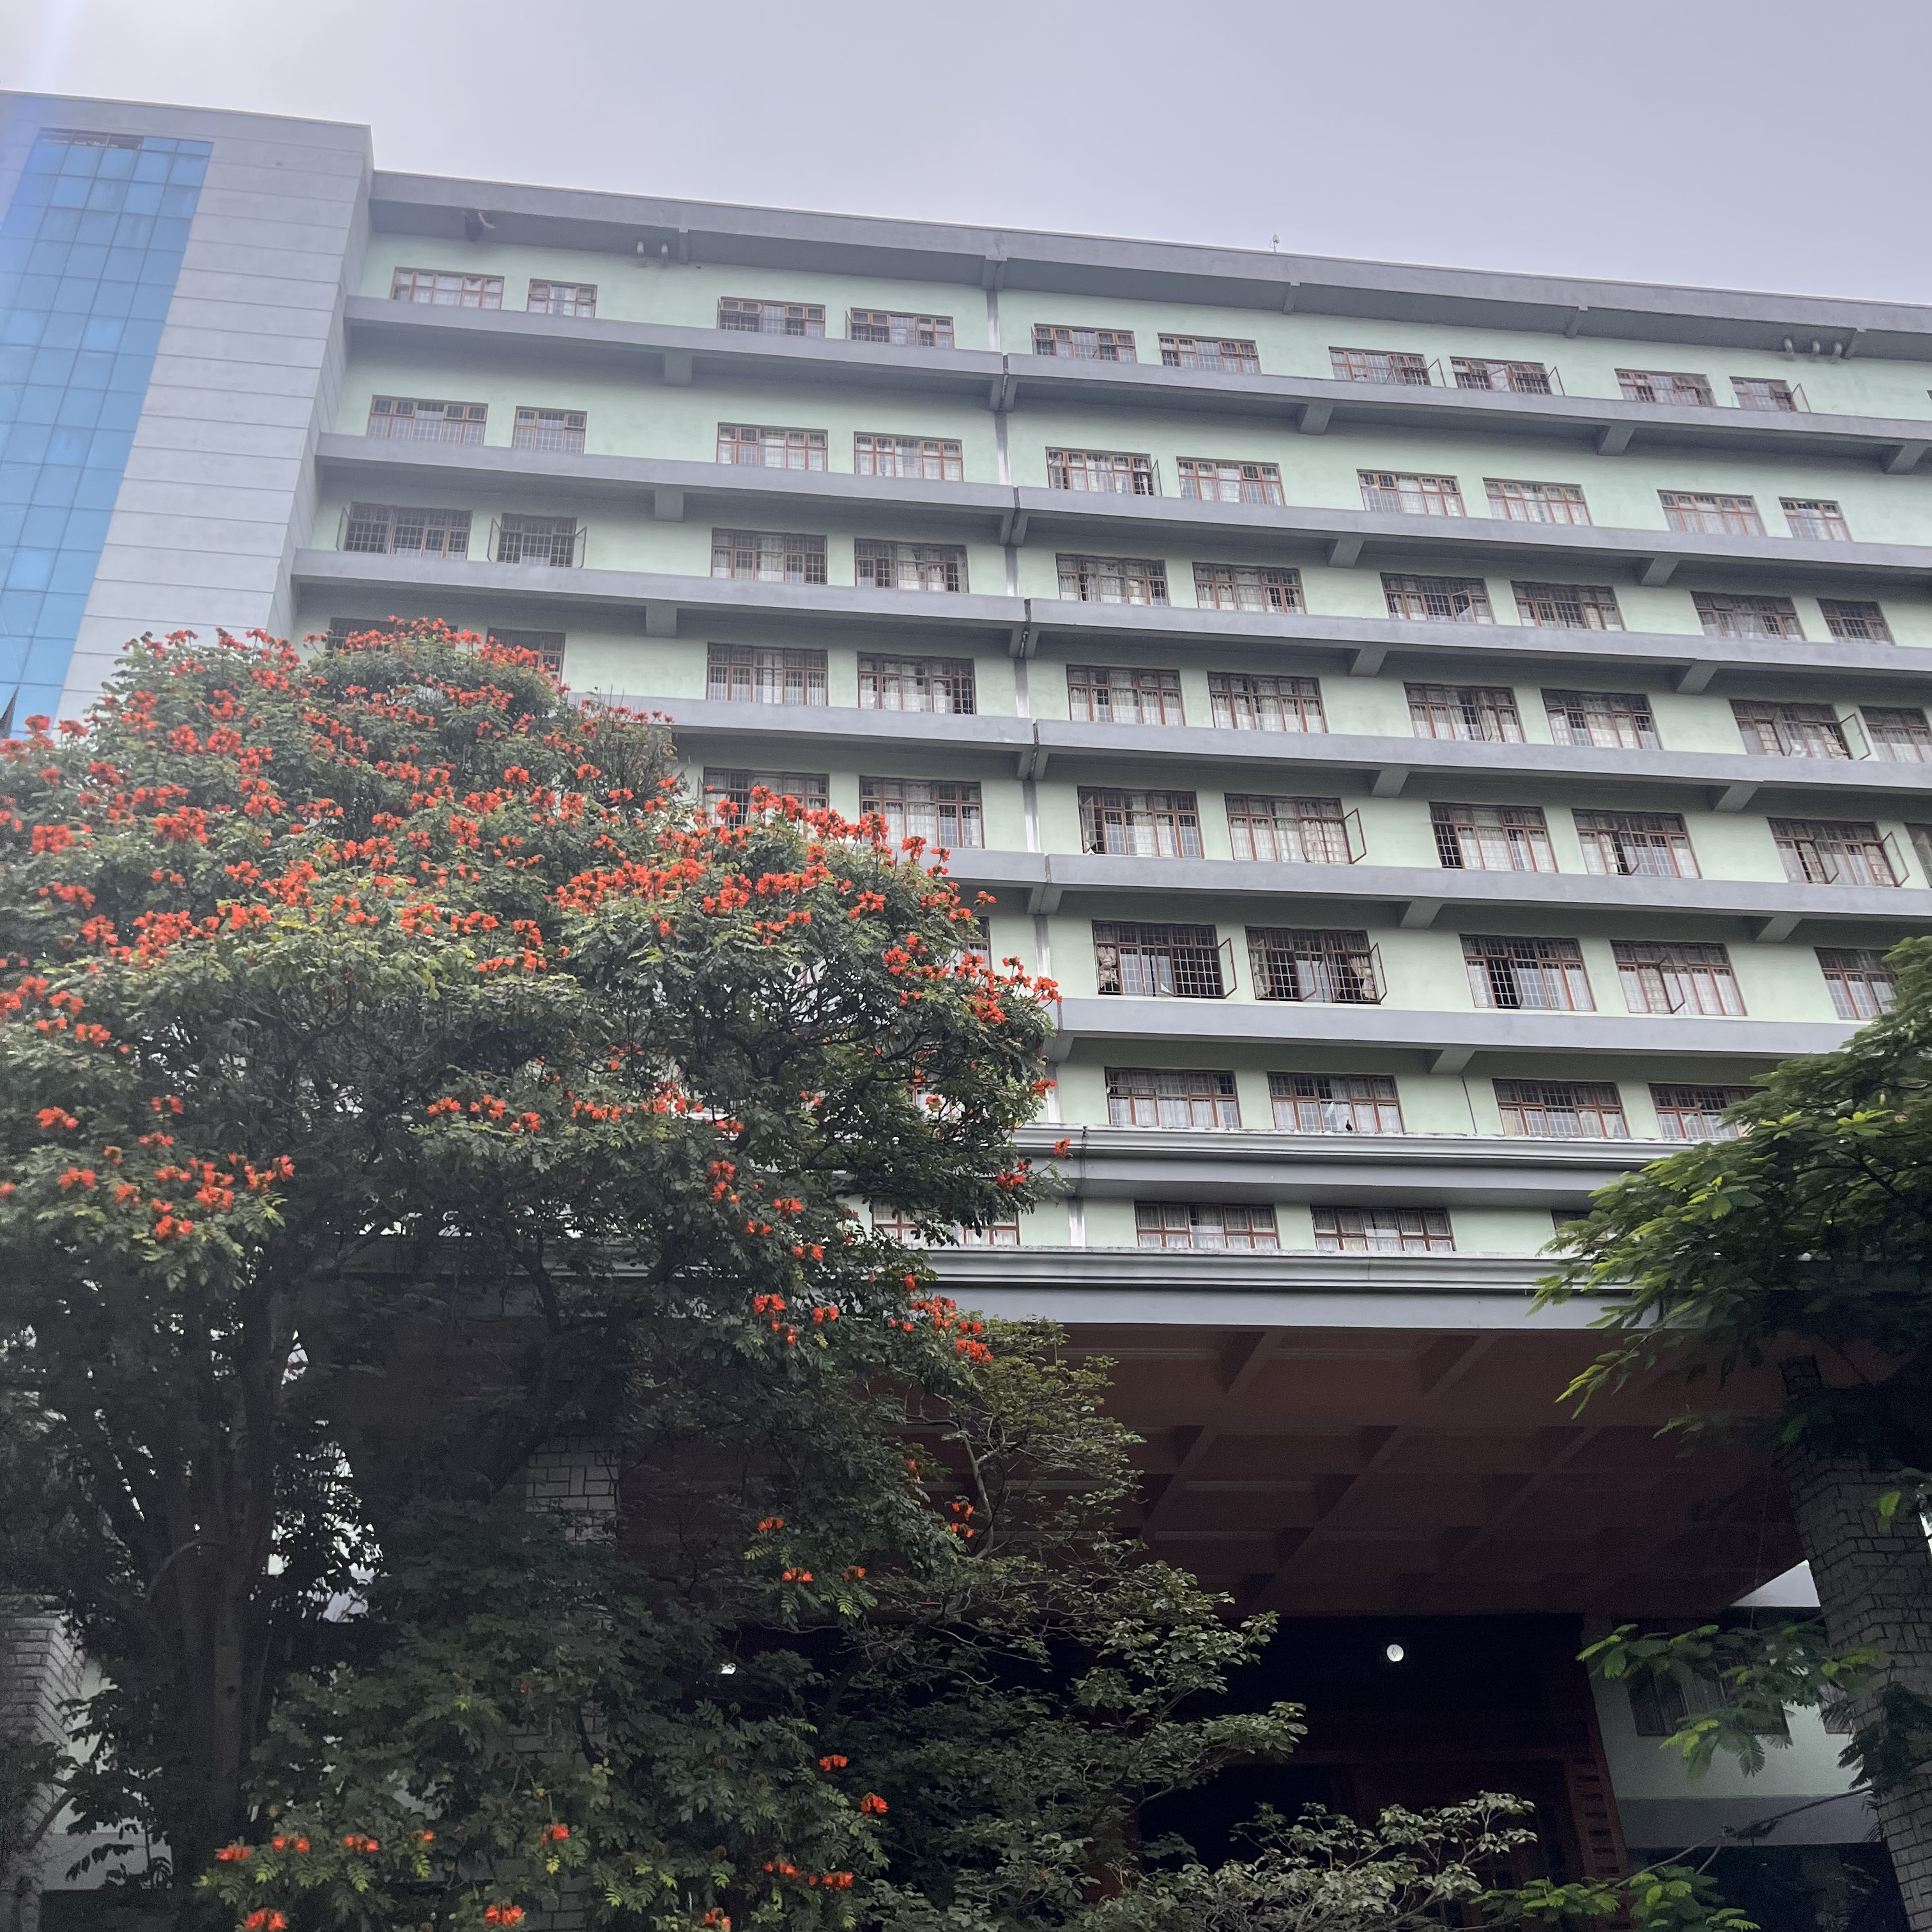Central Block: (5, 69, 1932, 1382)
